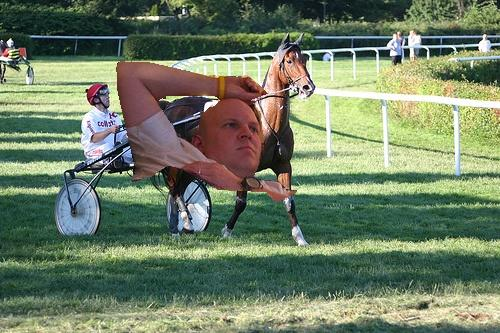tampered: (117, 62, 297, 202)
